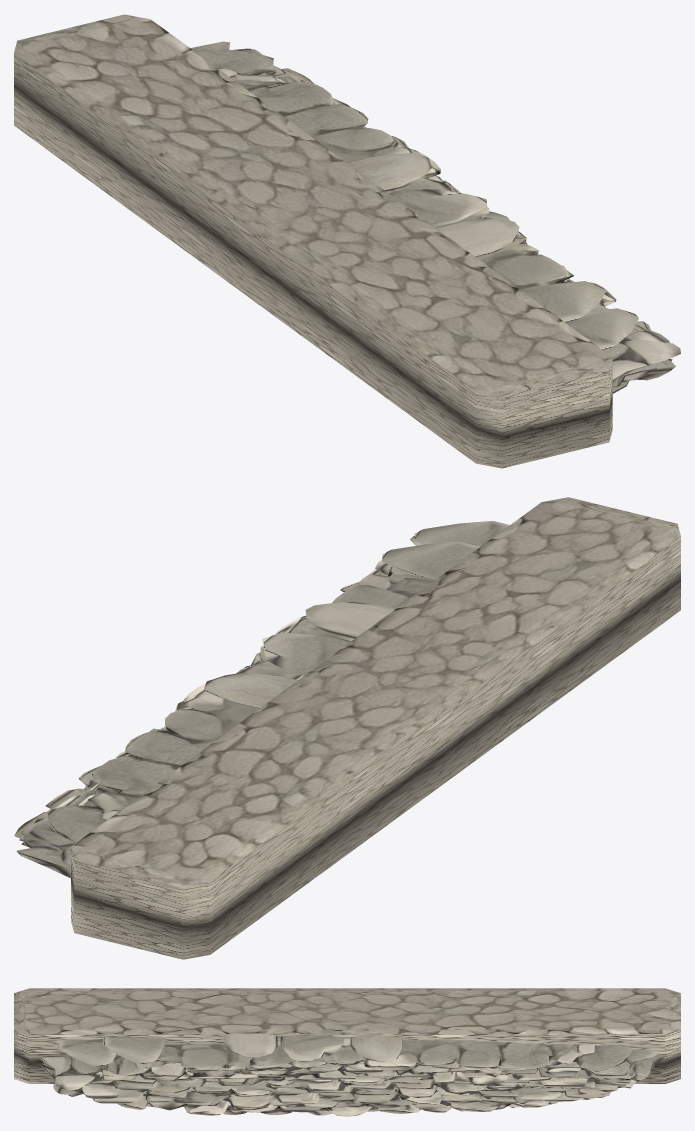
3 views of the same model, one above another, from view 1: azimuth 30°, elevation 25°; view 2: azimuth 150°, elevation 25°; view 3: azimuth 270°, elevation 25° (orthographic). The views are drawn at different scales.
Bounding box in the file's own units: 0.359 × 0.1 × 1.15.
Materials: 1 (1 with a texture image).
